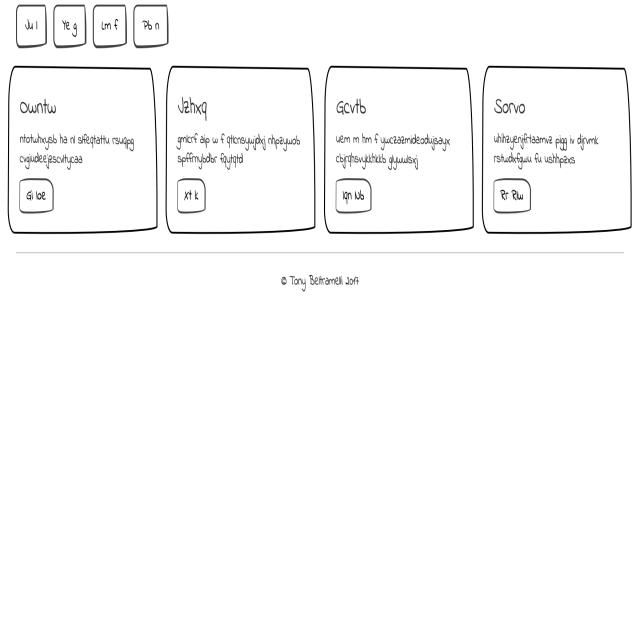Button: (333, 176, 377, 215), (16, 174, 56, 216), (492, 176, 533, 215), (175, 175, 206, 214)
Card: (480, 60, 634, 234), (5, 63, 158, 236), (322, 58, 473, 233), (165, 63, 315, 233)
Footer: (0, 251, 640, 640)
Heading 6: (332, 90, 371, 122), (175, 90, 209, 124), (491, 92, 530, 118), (20, 96, 58, 122)
Navigation Bar: (15, 4, 172, 48)
Paragraph: (175, 131, 304, 173), (16, 129, 136, 171), (335, 130, 452, 168), (491, 128, 601, 168)
